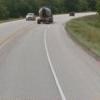Car: (23, 9, 36, 24)
